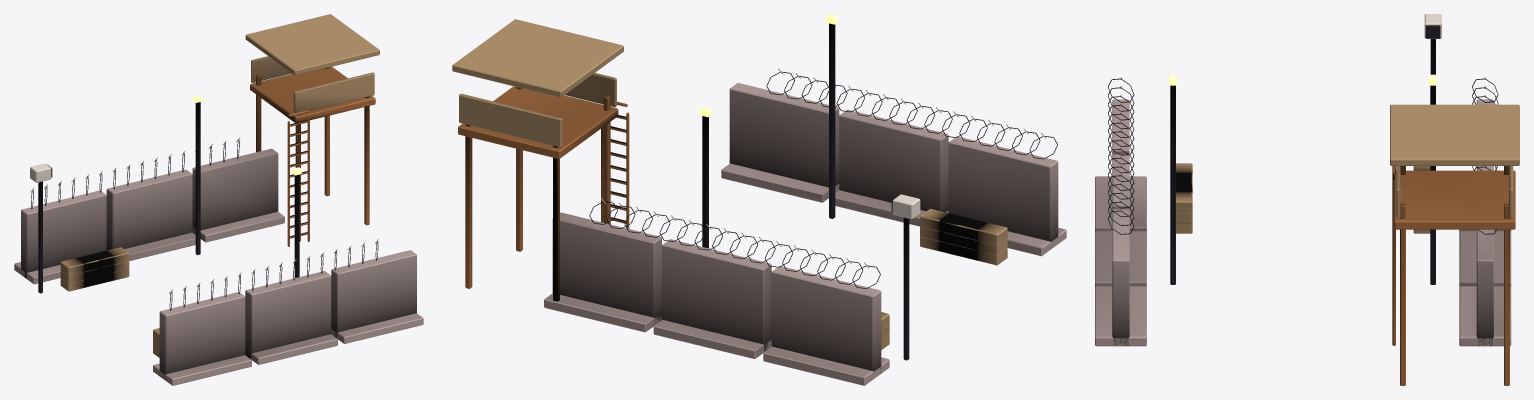
3 renders of one model, left to right at view 1: azimuth 30°, elevation 25°; view 2: azimuth 150°, elevation 25°; view 3: azimuth 270°, elevation 25°, orthographic. The views are drawn at different scales.
Visible parts, largest first — view 1: body_pal_sidewalk, body_pal_khaki, body_pal_woodWarm, body_pal_uiDark, body_pal_picketWhite; view 2: body_pal_sidewalk, body_pal_khaki, body_pal_woodWarm, body_pal_uiDark, body_pal_picketWhite; view 3: body_pal_sidewalk, body_pal_khaki, body_pal_woodWarm, body_pal_uiDark.
Part boxes in pixels (left/top/right/bottom): body_pal_sidewalk: left=14, top=137, right=423, bottom=385; body_pal_khaki: left=60, top=14, right=379, bottom=357; body_pal_woodWarm: left=250, top=66, right=375, bottom=246; body_pal_uiDark: left=31, top=102, right=378, bottom=310; body_pal_picketWhite: left=30, top=163, right=51, bottom=182; body_pal_sidewalk: left=544, top=68, right=1066, bottom=385; body_pal_khaki: left=452, top=19, right=1007, bottom=349; body_pal_woodWarm: left=458, top=86, right=629, bottom=301; body_pal_uiDark: left=589, top=23, right=1057, bottom=360; body_pal_picketWhite: left=892, top=194, right=920, bottom=219; body_pal_sidewalk: left=1095, top=77, right=1511, bottom=346; body_pal_khaki: left=1176, top=104, right=1519, bottom=233; body_pal_woodWarm: left=1392, top=166, right=1515, bottom=385; body_pal_uiDark: left=1108, top=25, right=1498, bottom=284.
Size of the model in its own units: 11.58 by 5.89 by 9.8.
